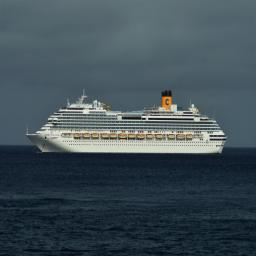cruises: (25, 82, 236, 159)
